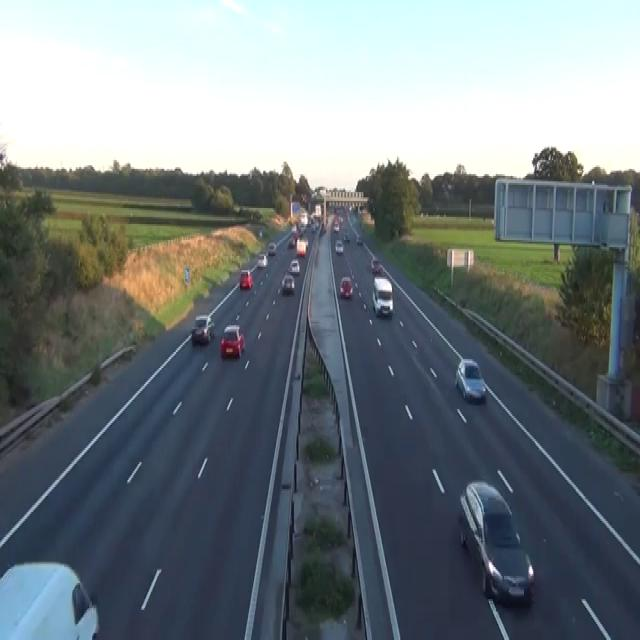Car: (459, 480, 534, 604), (0, 560, 99, 638), (454, 358, 486, 403), (220, 323, 245, 358), (372, 276, 393, 316), (191, 313, 214, 343), (339, 275, 352, 297), (281, 274, 295, 293), (239, 268, 252, 288), (288, 258, 300, 274), (257, 252, 267, 266), (370, 258, 380, 272), (335, 238, 343, 254), (268, 242, 276, 254), (319, 222, 326, 235), (287, 237, 295, 247), (297, 224, 304, 235), (355, 233, 362, 243), (343, 231, 349, 242), (333, 221, 339, 231), (291, 224, 297, 233), (310, 224, 316, 233), (339, 215, 343, 224), (259, 230, 262, 237)
